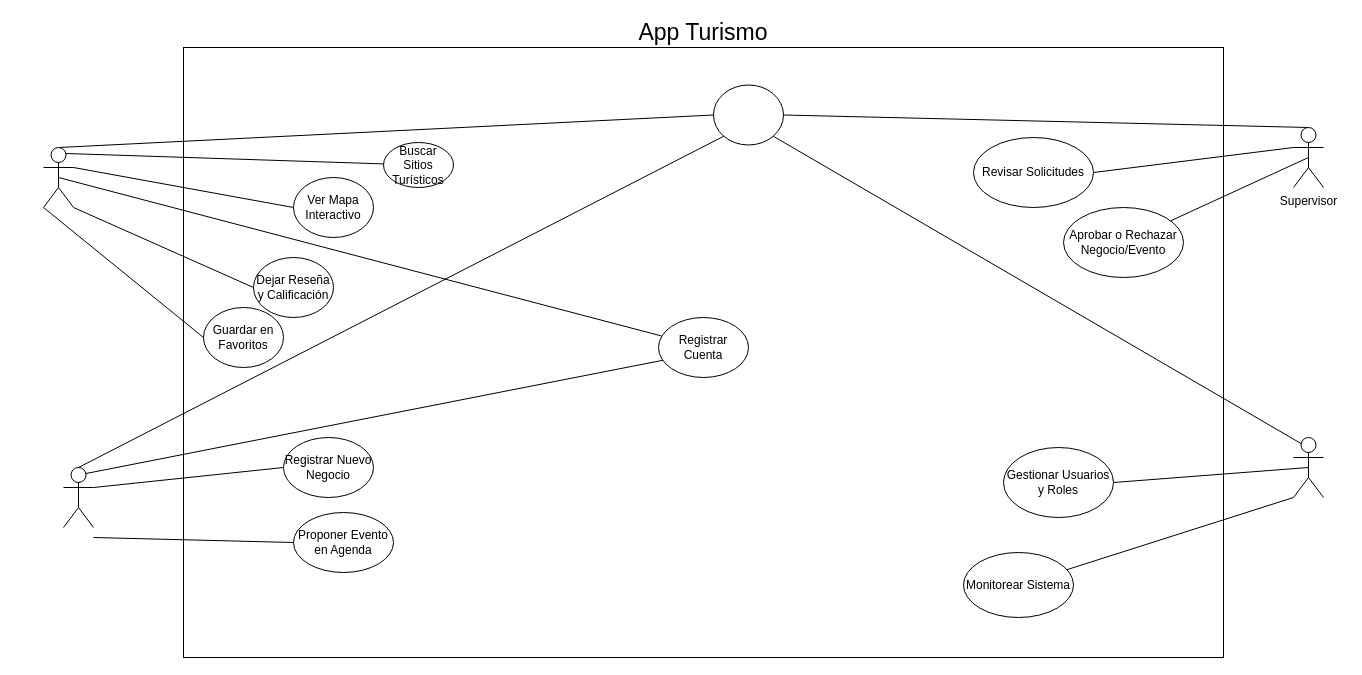
This 1362x675 diagram has some shape labels left out. Each missing label, with the box of its shape:
Administrador: (1292, 436, 1324, 498)
Emprendedor Local: (62, 466, 94, 528)
Iniciar Sesión: (712, 84, 784, 145)
Turista: (42, 146, 74, 208)
